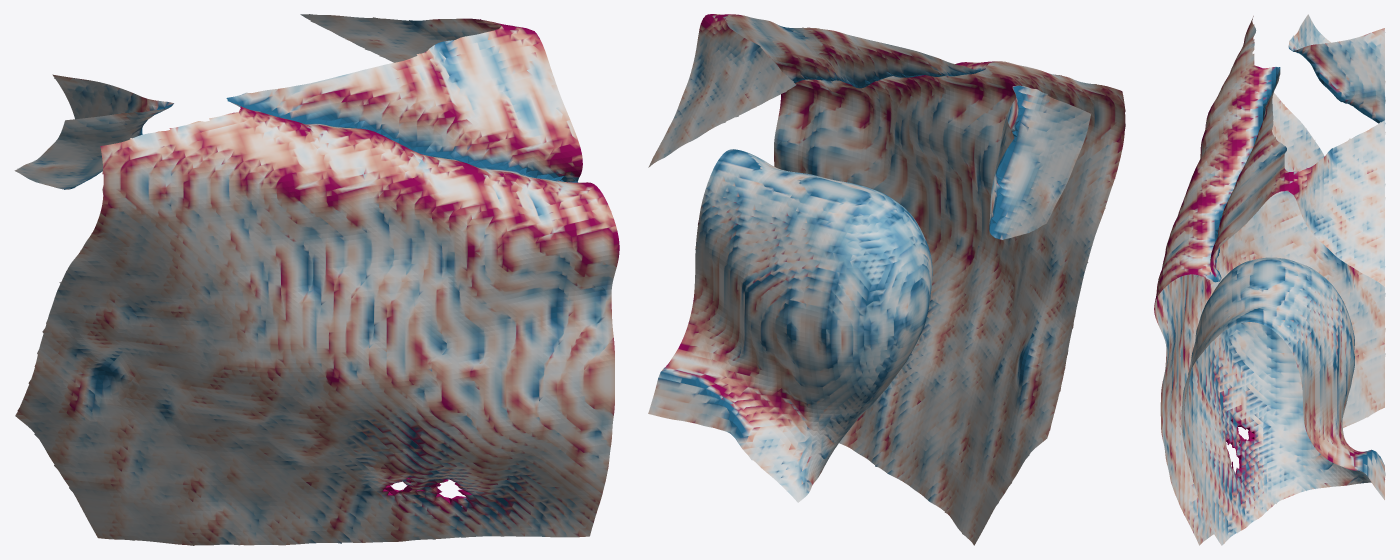
The model's file is crop1030_curvature.glb.
3 views of the same model, side by side, from view 1: azimuth 30°, elevation 25°; view 2: azimuth 150°, elevation 25°; view 3: azimuth 270°, elevation 25° (orthographic). The views are drawn at different scales.
Visible parts, largest first — view 1: world; view 2: world; view 3: world.
Boxes of the visible parts, bbox=[...] form: world: bbox=[14, 14, 619, 545]; world: bbox=[648, 14, 1125, 545]; world: bbox=[1154, 14, 1385, 545].
Bounding box in the file's own units: 1479 × 1480 × 853.
